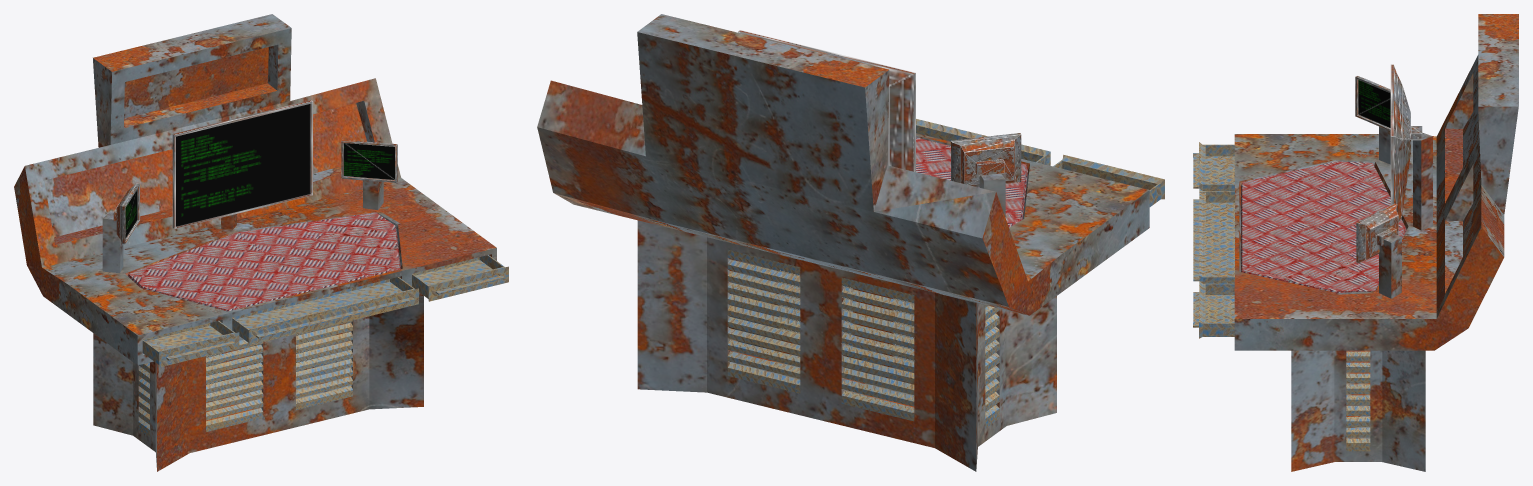
File: DESK_TEXED.fbx
The picture shows the model from 3 angles, left to right: view 1: azimuth 30°, elevation 25°; view 2: azimuth 150°, elevation 25°; view 3: azimuth 270°, elevation 25°; orthographic projection. The views are drawn at different scales.
Parts seen in each view (by area): view 1: pasted__Workbench Base, pasted__Workbench Worktop, pasted__Workbench Monitor 003, pasted__Workbench Draws, pasted__Workbench Vents, pasted__Workbench Monitor 002, pasted__Workbench Monitor 001; view 2: pasted__Workbench Base, pasted__Workbench Vents, pasted__Workbench Monitor 003, pasted__Workbench Monitor 001, pasted__Workbench Draws, pasted__Workbench Worktop; view 3: pasted__Workbench Base, pasted__Workbench Worktop, pasted__Workbench Draws, pasted__Workbench Monitor 003, pasted__Workbench Vents, pasted__Workbench Monitor 002, pasted__Workbench Monitor 001.
Part boxes in pixels (x1=…): pasted__Workbench Base: x1=14, y1=14, x2=496, y2=471; pasted__Workbench Worktop: x1=128, y1=210, x2=400, y2=311; pasted__Workbench Monitor 003: x1=172, y1=100, x2=312, y2=228; pasted__Workbench Draws: x1=142, y1=255, x2=508, y2=367; pasted__Workbench Vents: x1=138, y1=320, x2=352, y2=437; pasted__Workbench Monitor 002: x1=341, y1=139, x2=397, y2=182; pasted__Workbench Monitor 001: x1=113, y1=183, x2=139, y2=244; pasted__Workbench Base: x1=537, y1=14, x2=1149, y2=471; pasted__Workbench Vents: x1=727, y1=249, x2=999, y2=428; pasted__Workbench Monitor 003: x1=738, y1=30, x2=915, y2=171; pasted__Workbench Monitor 001: x1=951, y1=133, x2=1021, y2=186; pasted__Workbench Draws: x1=916, y1=119, x2=1164, y2=206; pasted__Workbench Worktop: x1=916, y1=137, x2=1027, y2=227; pasted__Workbench Base: x1=1234, y1=14, x2=1518, y2=471; pasted__Workbench Worktop: x1=1241, y1=161, x2=1406, y2=292; pasted__Workbench Draws: x1=1193, y1=142, x2=1234, y2=338; pasted__Workbench Monitor 003: x1=1390, y1=64, x2=1422, y2=222; pasted__Workbench Vents: x1=1346, y1=351, x2=1370, y2=451; pasted__Workbench Monitor 002: x1=1356, y1=203, x2=1398, y2=263; pasted__Workbench Monitor 001: x1=1355, y1=76, x2=1390, y2=130.
Size of the model in its own units: 220 by 190 by 164.
